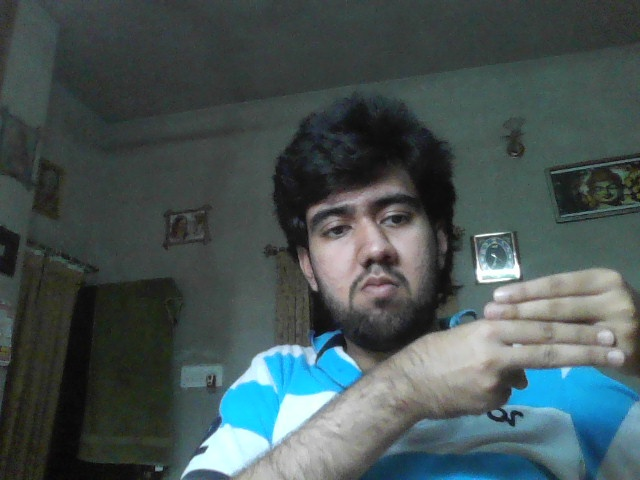Name: (416, 267, 638, 415)
